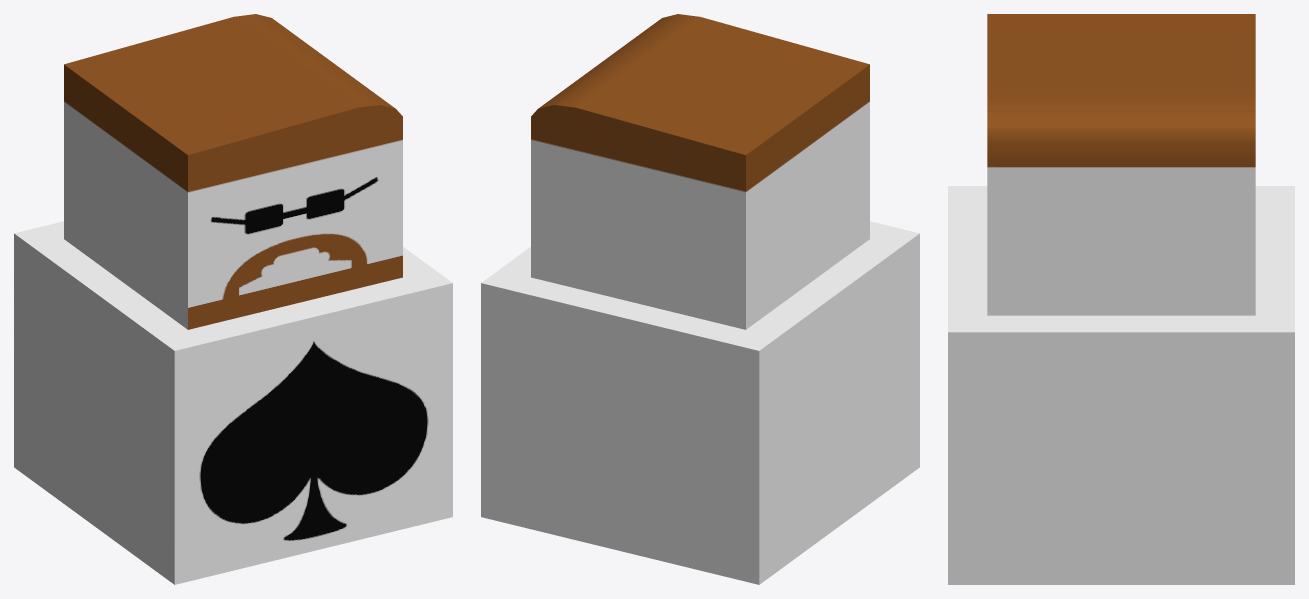
Rendered from punchy donald.fbx.
The picture shows the model from 3 angles, left to right: view 1: azimuth 30°, elevation 25°; view 2: azimuth 150°, elevation 25°; view 3: azimuth 270°, elevation 25°; orthographic projection. The views are drawn at different scales.
Parts seen in each view (by area): view 1: pCube17; view 2: pCube17; view 3: pCube17.
Part boxes in pixels (x1,y1,x2,y2): pCube17: (14,14,452,584); pCube17: (481,14,919,584); pCube17: (948,14,1294,584).
Bounding box in the file's own units: 3.52 × 5.02 × 3.52.
